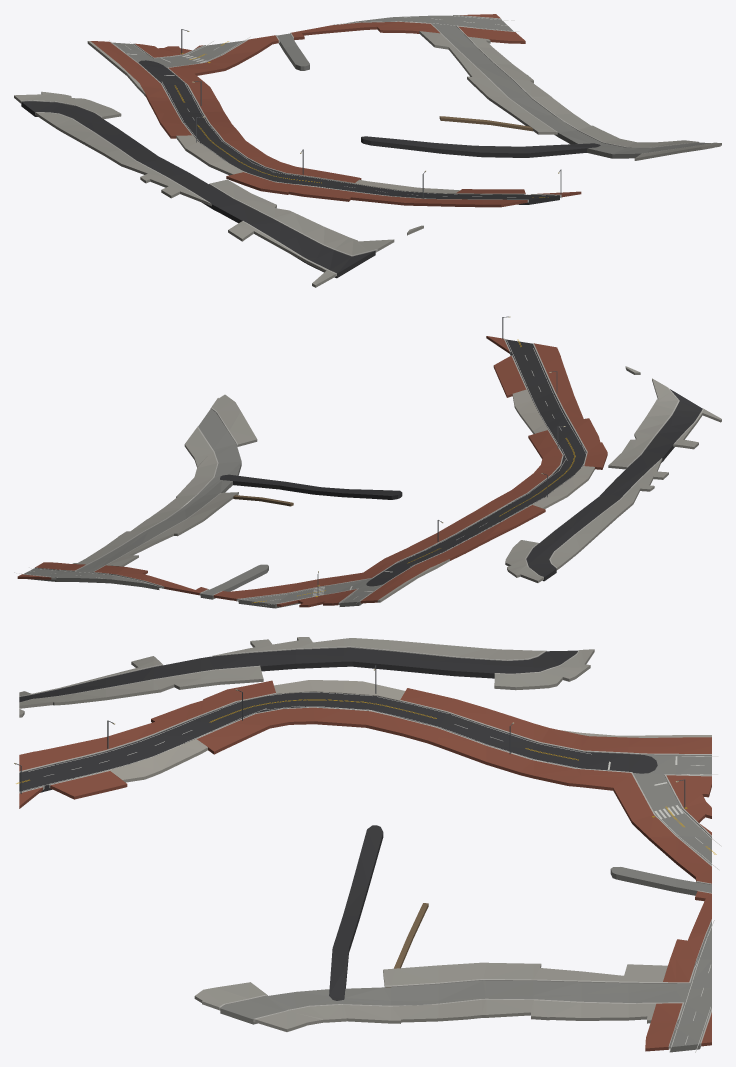
The picture shows the model from 3 angles, top to bottom: view 1: azimuth 30°, elevation 25°; view 2: azimuth 150°, elevation 25°; view 3: azimuth 270°, elevation 25°; orthographic projection. The views are drawn at different scales.
Size of the model in its own units: 150 by 35.74 by 149.
